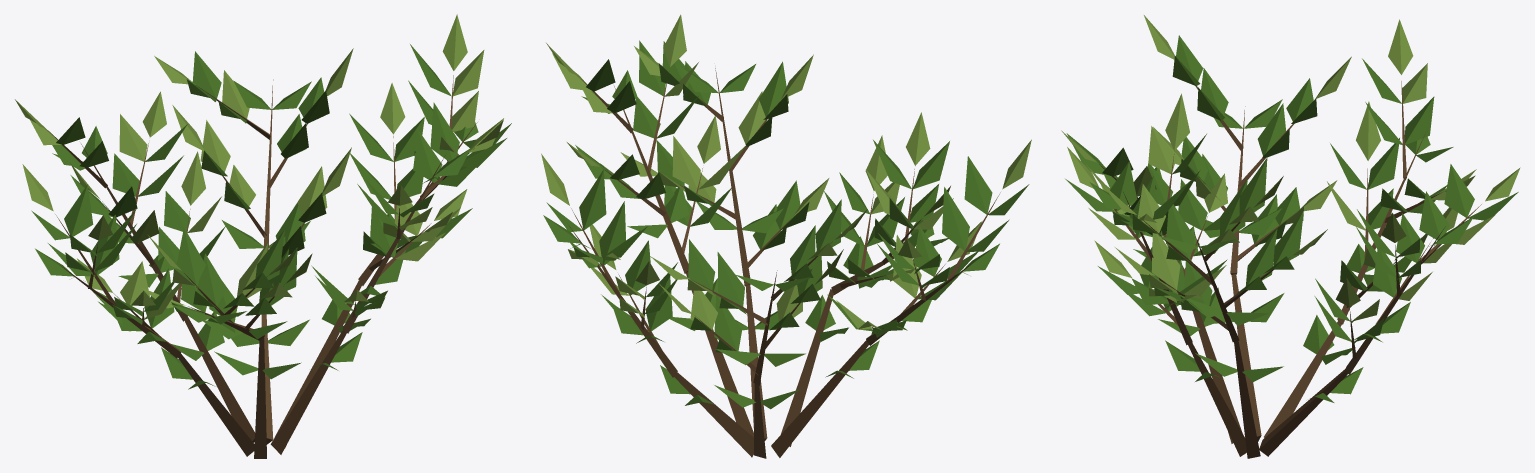
File: bush-6.glb
3 views of the same model, side by side, from view 1: azimuth 30°, elevation 25°; view 2: azimuth 150°, elevation 25°; view 3: azimuth 270°, elevation 25° (orthographic). The views are drawn at different scales.
Visible parts, largest first — view 1: bush-6-lod0; view 2: bush-6-lod0; view 3: bush-6-lod0.
Part boxes in pixels (left/top/right/bottom): bush-6-lod0: left=15, top=14, right=511, bottom=458; bush-6-lod0: left=541, top=14, right=1031, bottom=458; bush-6-lod0: left=1061, top=15, right=1520, bottom=458.
Bounding box in the file's own units: 2.99 × 2.4 × 2.63.
